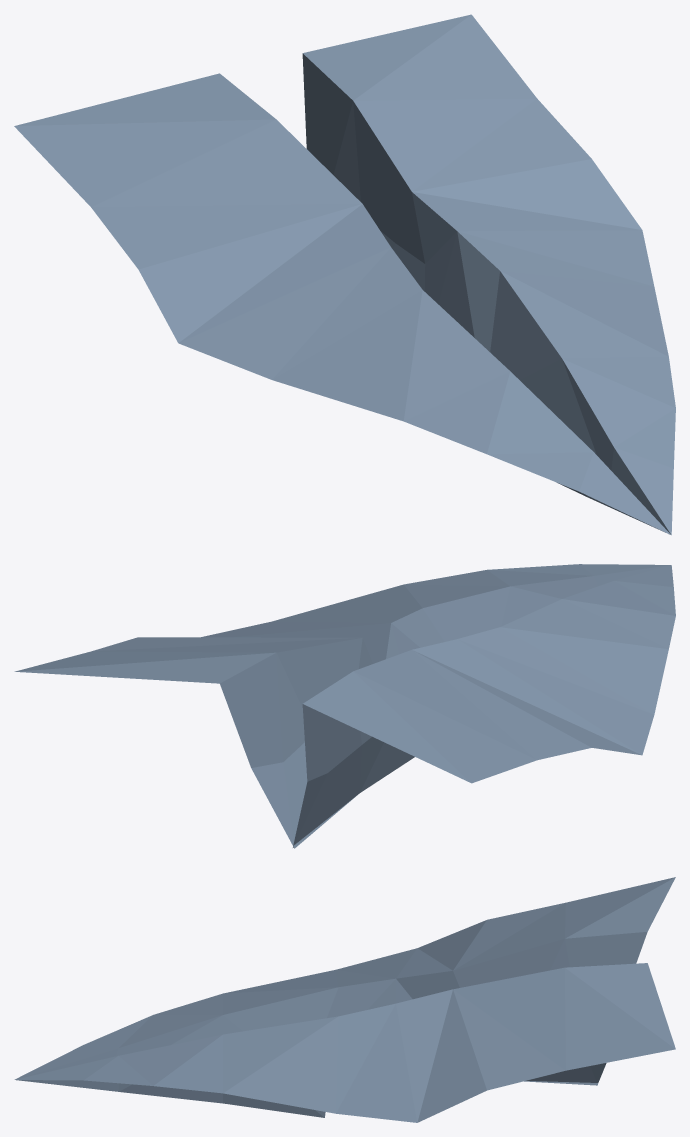
Rendered from artPaperPlane.fbx.
3 views of the same model, one above another, from view 1: azimuth 30°, elevation 25°; view 2: azimuth 150°, elevation 25°; view 3: azimuth 270°, elevation 25° (orthographic). The views are drawn at different scales.
Visible parts, largest first — view 1: art_paperPlane; view 2: art_paperPlane; view 3: art_paperPlane.
Part boxes in pixels (bbox=[...]): art_paperPlane: bbox=[14, 14, 675, 535]; art_paperPlane: bbox=[14, 564, 675, 848]; art_paperPlane: bbox=[14, 877, 675, 1122].
Size of the model in its own units: 35.85 by 14.54 by 57.37.
